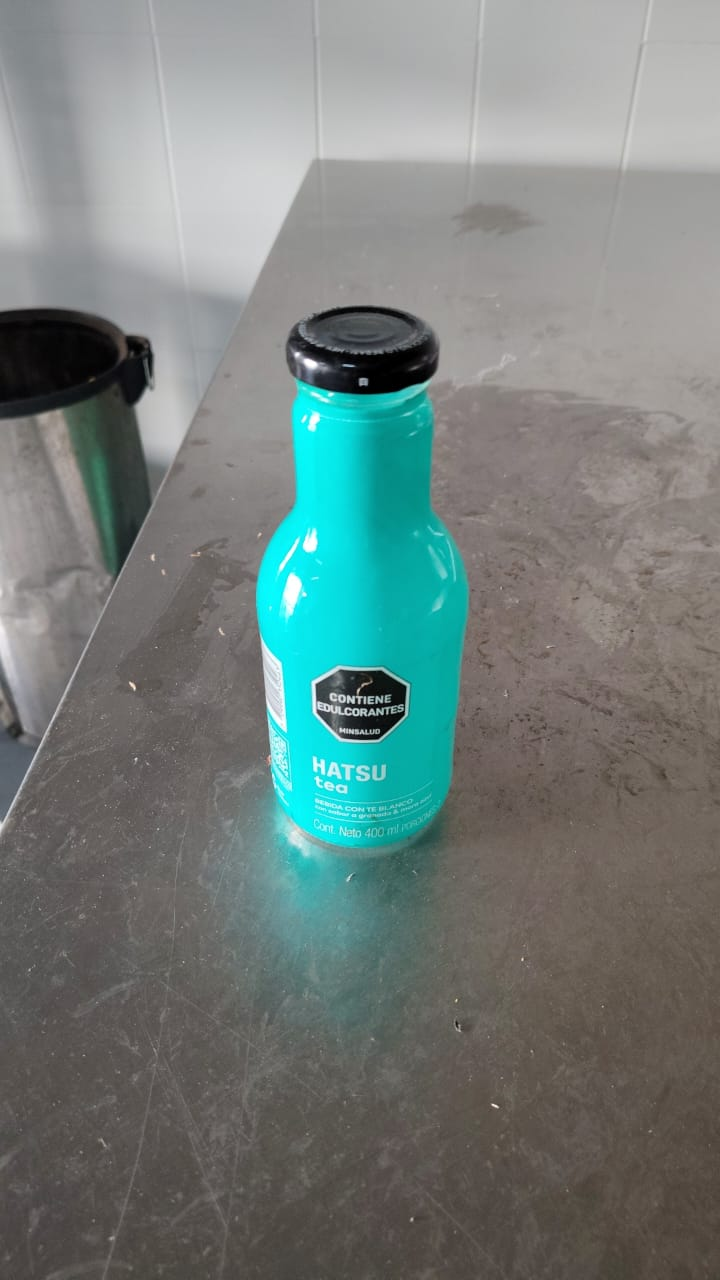Vidrio: (257, 389, 466, 848)
